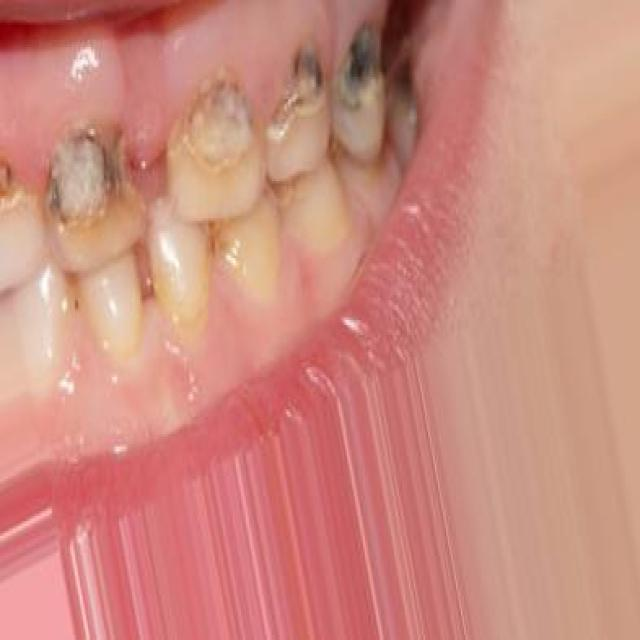caries: (40, 116, 134, 240), (172, 65, 252, 183), (329, 14, 394, 130), (262, 40, 327, 153), (0, 141, 38, 231)
